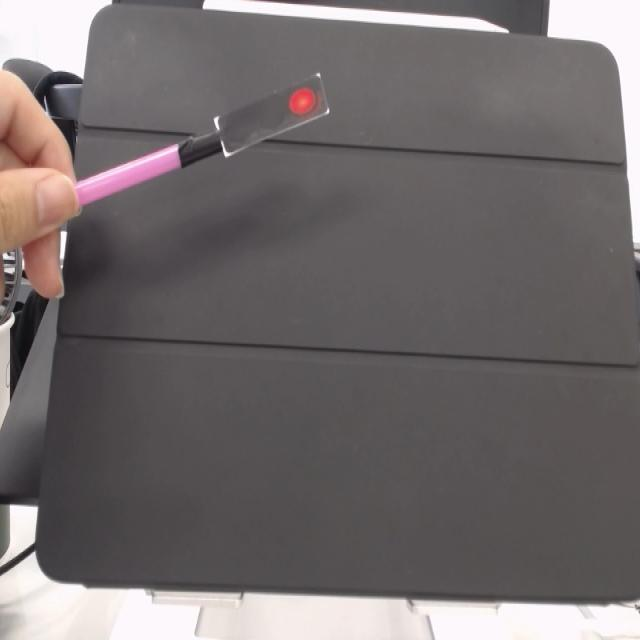traffic light: (218, 71, 327, 140)
